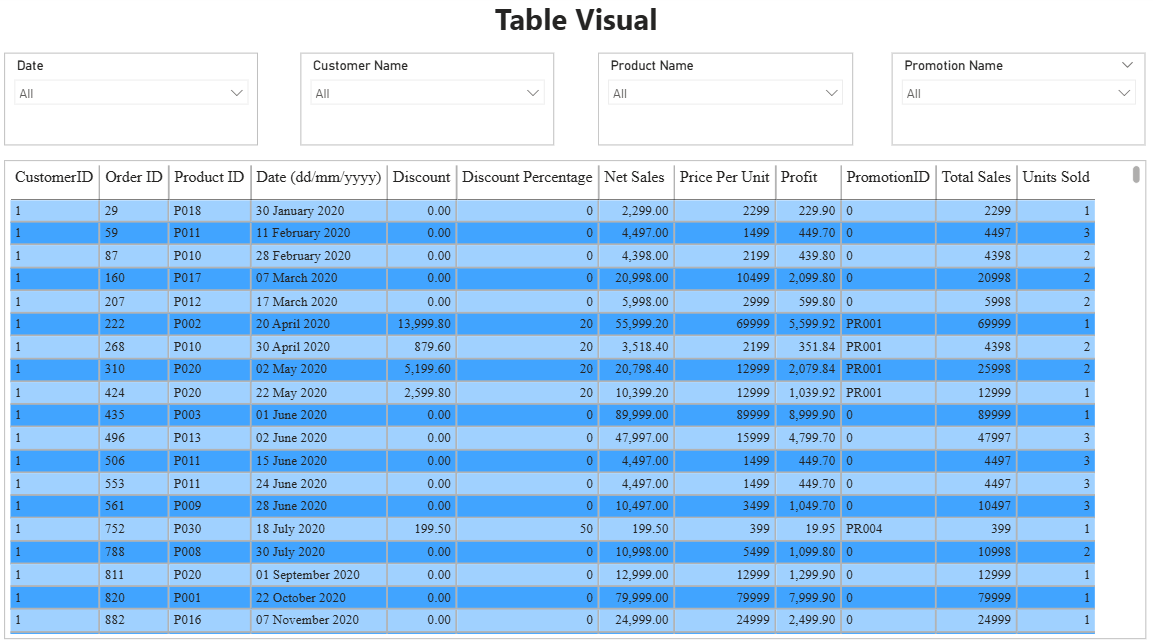

Layout of this report page (visuals, bound fields, positions):
{"tool":"powerbi","page":{"name":"Table Visual","canvas":[1280,720],"ordinal":4},"visuals":[{"type":"tableEx","fields":{"Values":["Fact Table.CustomerID","Fact Table.Order ID","Fact Table.Product ID","Fact Table.Date (dd/mm/yyyy)","Fact Table.Discount","Fact Table.Discount Percentage","Fact Table.Net Sales","Fact Table.Price Per Unit","Fact Table.Profit","Fact Table.PromotionID","Fact Table.Total Sales    ","Fact Table.Units Sold"]},"box":[12.2,182.2,1253.4,525.8],"z":0},{"type":"slicer","fields":{"Values":["Dim Customers.Customer Name"]},"box":[337.1,13.5,278.8,101.5],"z":1000},{"type":"slicer","fields":{"Values":["Dim Product.Product Name"]},"box":[662,13.5,278.8,101.5],"z":2000},{"type":"slicer","fields":{"Values":["Dim Promotion.Promotion Name"]},"box":[986.8,13.5,278.8,101.5],"z":3000},{"type":"slicer","fields":{"Values":["Date Table 1.Date"]},"box":[12.2,13.5,278.8,101.5],"z":4000}]}

Visuals, with their boxes in screenshot pixels (x1, y1, x2, y2), scaled from the page's 1280x720 canvas onto the 1153x641 screenshot:
tableEx - Fact Table.CustomerID x Fact Table.Order ID: 11,162,1140,630
slicer - Dim Customers.Customer Name: 304,12,555,102
slicer - Dim Product.Product Name: 596,12,847,102
slicer - Dim Promotion.Promotion Name: 889,12,1140,102
slicer - Date Table 1.Date: 11,12,262,102
